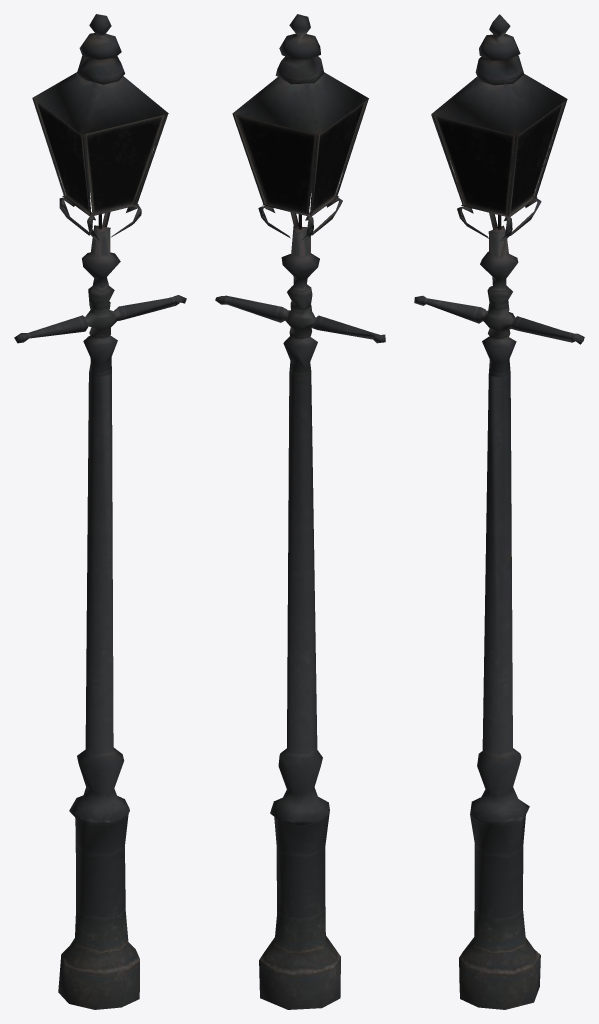
3 views of the same model, side by side, from view 1: azimuth 30°, elevation 25°; view 2: azimuth 150°, elevation 25°; view 3: azimuth 330°, elevation 25° (orthographic).
Visible parts, largest first — view 1: street_lamp_01.001, street_lamp_01.002; view 2: street_lamp_01.001, street_lamp_01.002; view 3: street_lamp_01.001, street_lamp_01.002.
Part boxes in pixels (box(x1,y1,x2,y2)): street_lamp_01.001: box(14, 14, 186, 1009); street_lamp_01.002: box(35, 100, 164, 214); street_lamp_01.001: box(215, 14, 385, 1009); street_lamp_01.002: box(236, 101, 365, 214); street_lamp_01.001: box(414, 14, 584, 1009); street_lamp_01.002: box(436, 102, 563, 214).
Size of the model in its own units: 0.7045 by 3.87 by 0.3609.
Materials: 3 (3 with a texture image).
